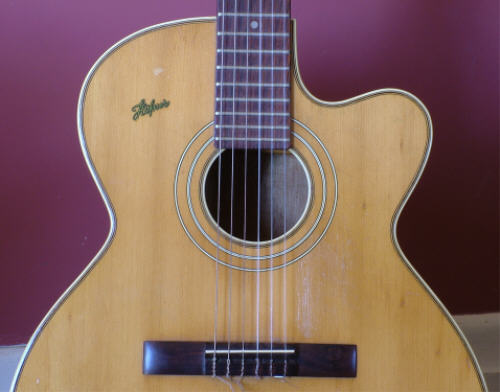guitar: (10, 1, 489, 391)
